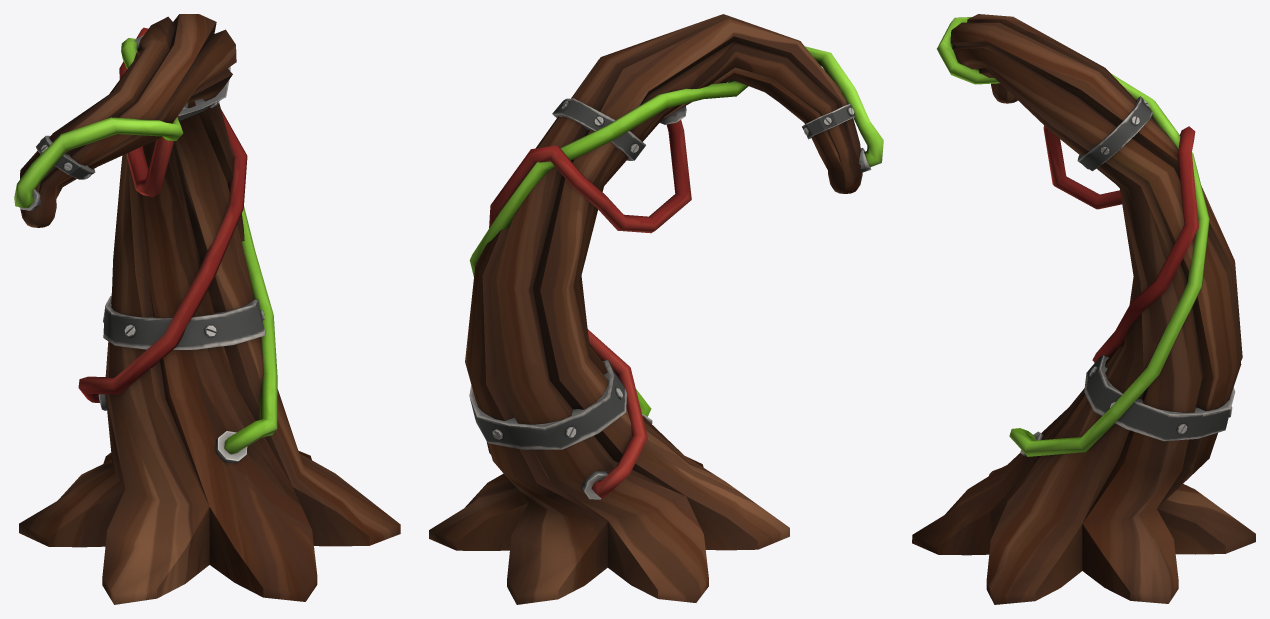
Rendered from ArbreBebeille.FBX.
The picture shows the model from 3 angles, left to right: view 1: azimuth 30°, elevation 25°; view 2: azimuth 150°, elevation 25°; view 3: azimuth 270°, elevation 25°; orthographic projection. The views are drawn at different scales.
Visible parts, largest first — view 1: ArbreBebeille; view 2: ArbreBebeille; view 3: ArbreBebeille.
Boxes of the visible parts, x1,y1,x2,y2 form: ArbreBebeille: (14, 14, 400, 604); ArbreBebeille: (429, 14, 883, 604); ArbreBebeille: (912, 14, 1255, 604).
Size of the model in its own units: 9.07 by 12.18 by 7.82.
